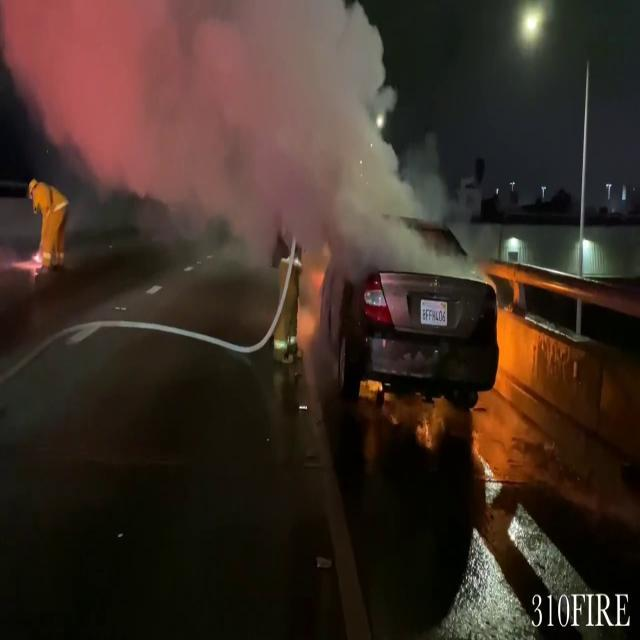Smoke: (1, 0, 446, 245)
